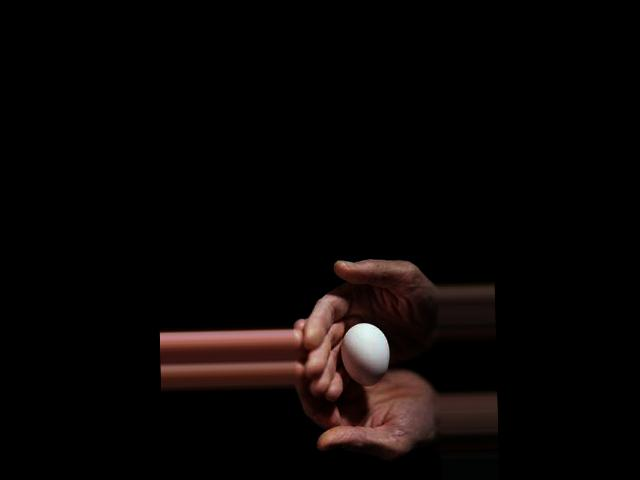egg: (340, 321, 390, 386)
